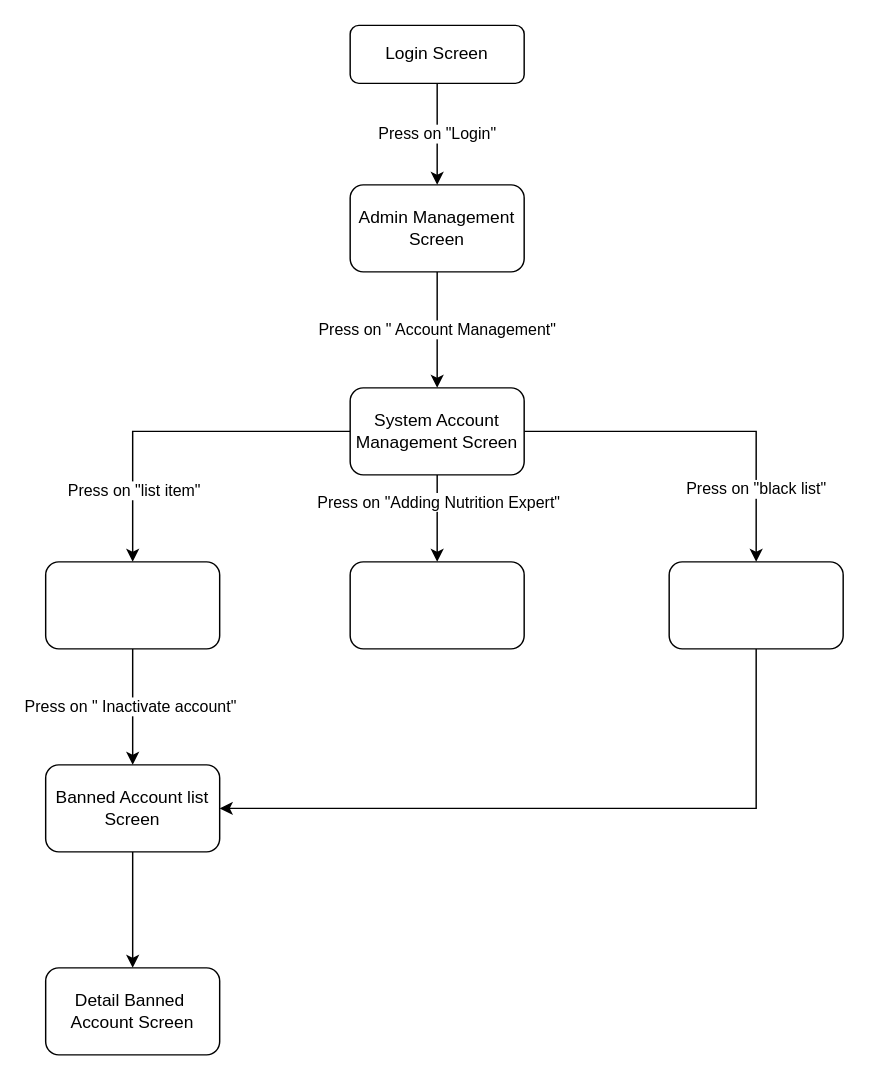
This 869x1080 diagram has some shape labels left out. The shapes that lost their labels are listed below. From the top down, each one's box as (x1, y1, x2, y2) in pixels, then its label:
(44, 560, 220, 649): Account Detail Screen
(349, 560, 524, 649): Nutrition Expert Adding Screen
(668, 560, 843, 649): System Blacklist Management
